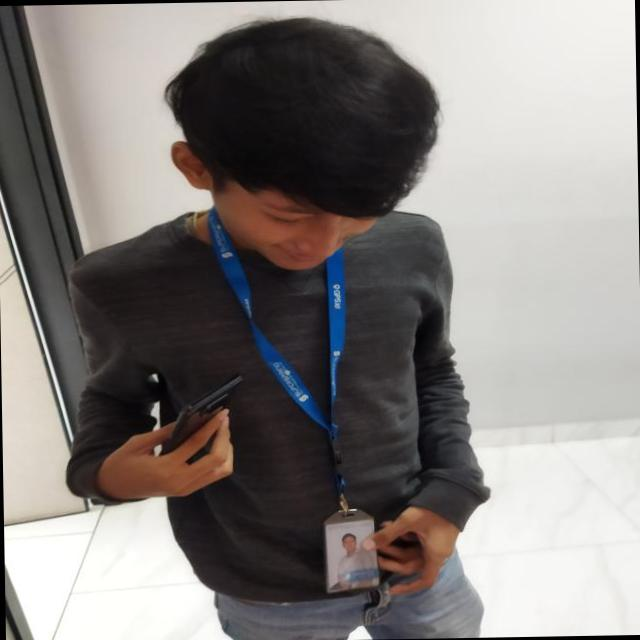id_card: (222, 237, 376, 599)
